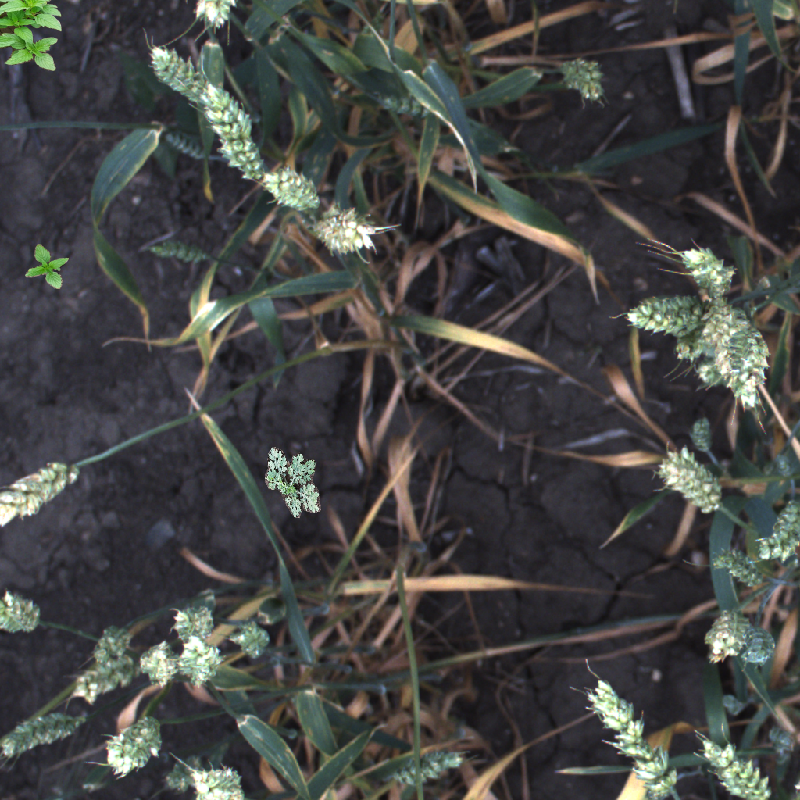spikelet: (592, 678, 685, 800), (197, 68, 274, 188), (704, 299, 775, 401), (141, 39, 219, 112), (682, 739, 770, 800), (653, 442, 725, 516), (1, 460, 77, 524), (3, 709, 85, 761), (378, 746, 465, 792), (64, 658, 146, 703), (621, 292, 699, 335), (310, 203, 372, 254), (107, 718, 160, 775), (367, 80, 440, 120), (757, 492, 796, 564), (705, 607, 750, 663), (261, 169, 319, 212), (1, 585, 47, 639), (84, 619, 135, 667), (189, 760, 251, 799), (555, 54, 601, 103), (150, 232, 210, 264), (674, 245, 723, 283), (740, 619, 775, 671), (178, 639, 221, 680), (139, 642, 179, 685), (714, 549, 753, 588), (229, 623, 268, 659), (171, 602, 211, 636), (164, 754, 200, 789), (670, 324, 708, 357), (689, 357, 725, 390), (164, 130, 206, 158), (689, 417, 711, 450)
weed: (258, 439, 326, 523), (1, 1, 62, 71), (25, 244, 69, 289)
